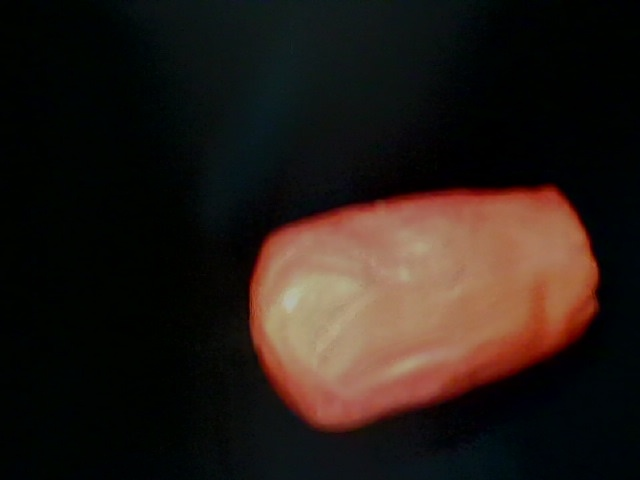KHSLJ: (59, 230, 388, 480)
